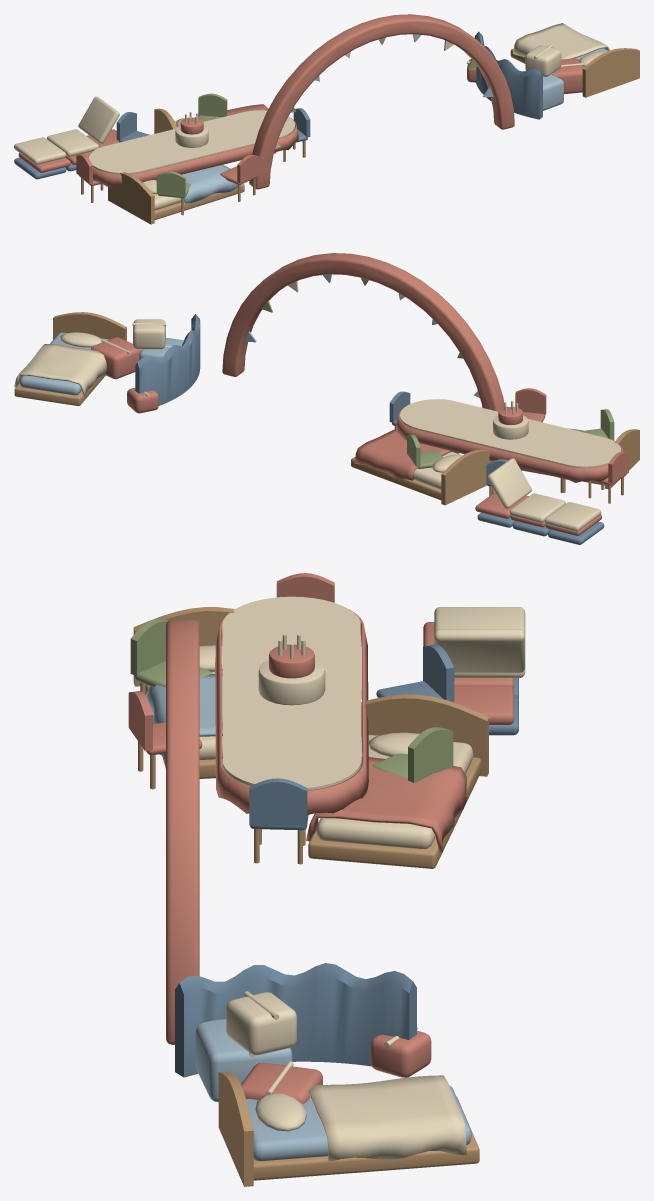
The model's file is playroom-quiet-split.glb.
3 views of the same model, one above another, from view 1: azimuth 30°, elevation 25°; view 2: azimuth 150°, elevation 25°; view 3: azimuth 270°, elevation 25° (orthographic). The views are drawn at different scales.
Parts seen in each view (by area): view 1: BirthdayRoomSet body, NapRoomSet body; view 2: BirthdayRoomSet body, NapRoomSet body; view 3: NapRoomSet body, BirthdayRoomSet body.
Part boxes in pixels (x1,y1,x2,y2): BirthdayRoomSet body: [76, 14, 583, 215]; NapRoomSet body: [14, 23, 639, 224]; BirthdayRoomSet body: [91, 253, 628, 503]; NapRoomSet body: [14, 312, 639, 544]; NapRoomSet body: [133, 607, 525, 1186]; BirthdayRoomSet body: [128, 573, 454, 1104].
Bounding box in the file's own units: 21.27 × 4.96 × 6.54.
